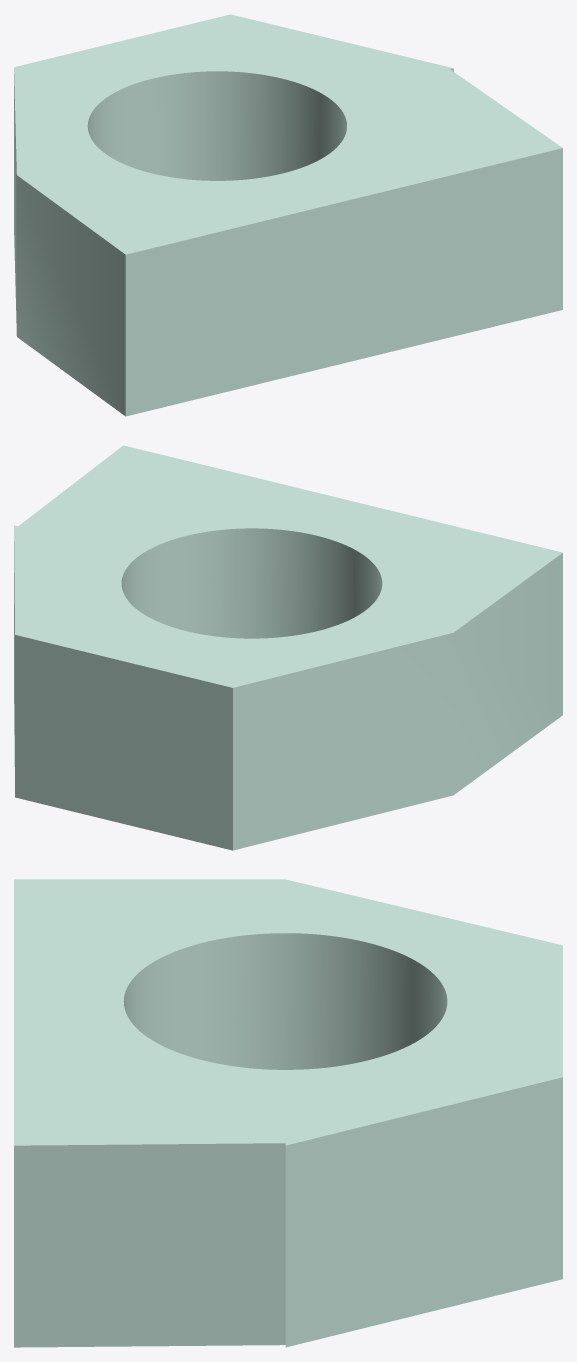
The picture shows the model from 3 angles, top to bottom: view 1: azimuth 30°, elevation 25°; view 2: azimuth 150°, elevation 25°; view 3: azimuth 270°, elevation 25°; orthographic projection. The views are drawn at different scales.
Visible parts, largest first — view 1: Renderer Node; view 2: Renderer Node; view 3: Renderer Node.
Part boxes in pixels (x1,y1,x2,y2): Renderer Node: (14,14,562,416); Renderer Node: (14,445,562,850); Renderer Node: (14,879,562,1347).
Bounding box in the file's own units: 0.6185 × 0.2188 × 0.5391.
